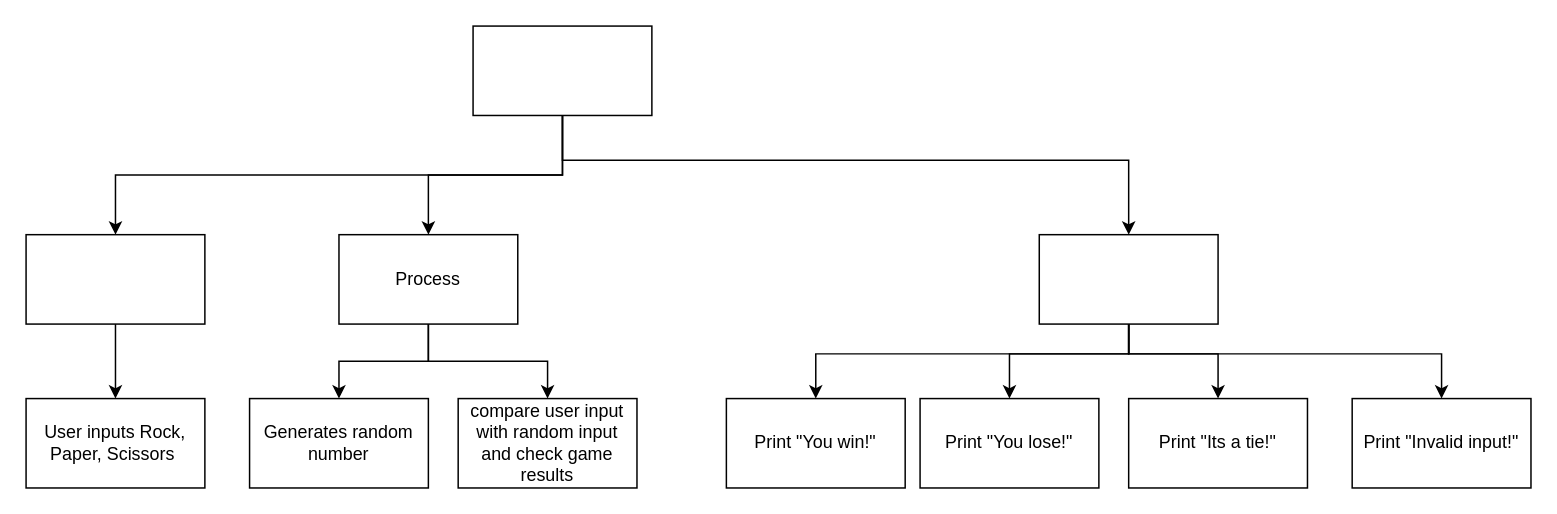
Some shapes in this 1557 by 514 pixel diagram are drawn without their labels. The shapes that lost their labels are listed below. From the top down, each one's box as (x1, y1, x2, y2) in pixels, then its label:
(472, 25, 652, 115): Rock, Paper, scissors
(25, 233, 205, 324): Input
(1038, 233, 1218, 324): Output
